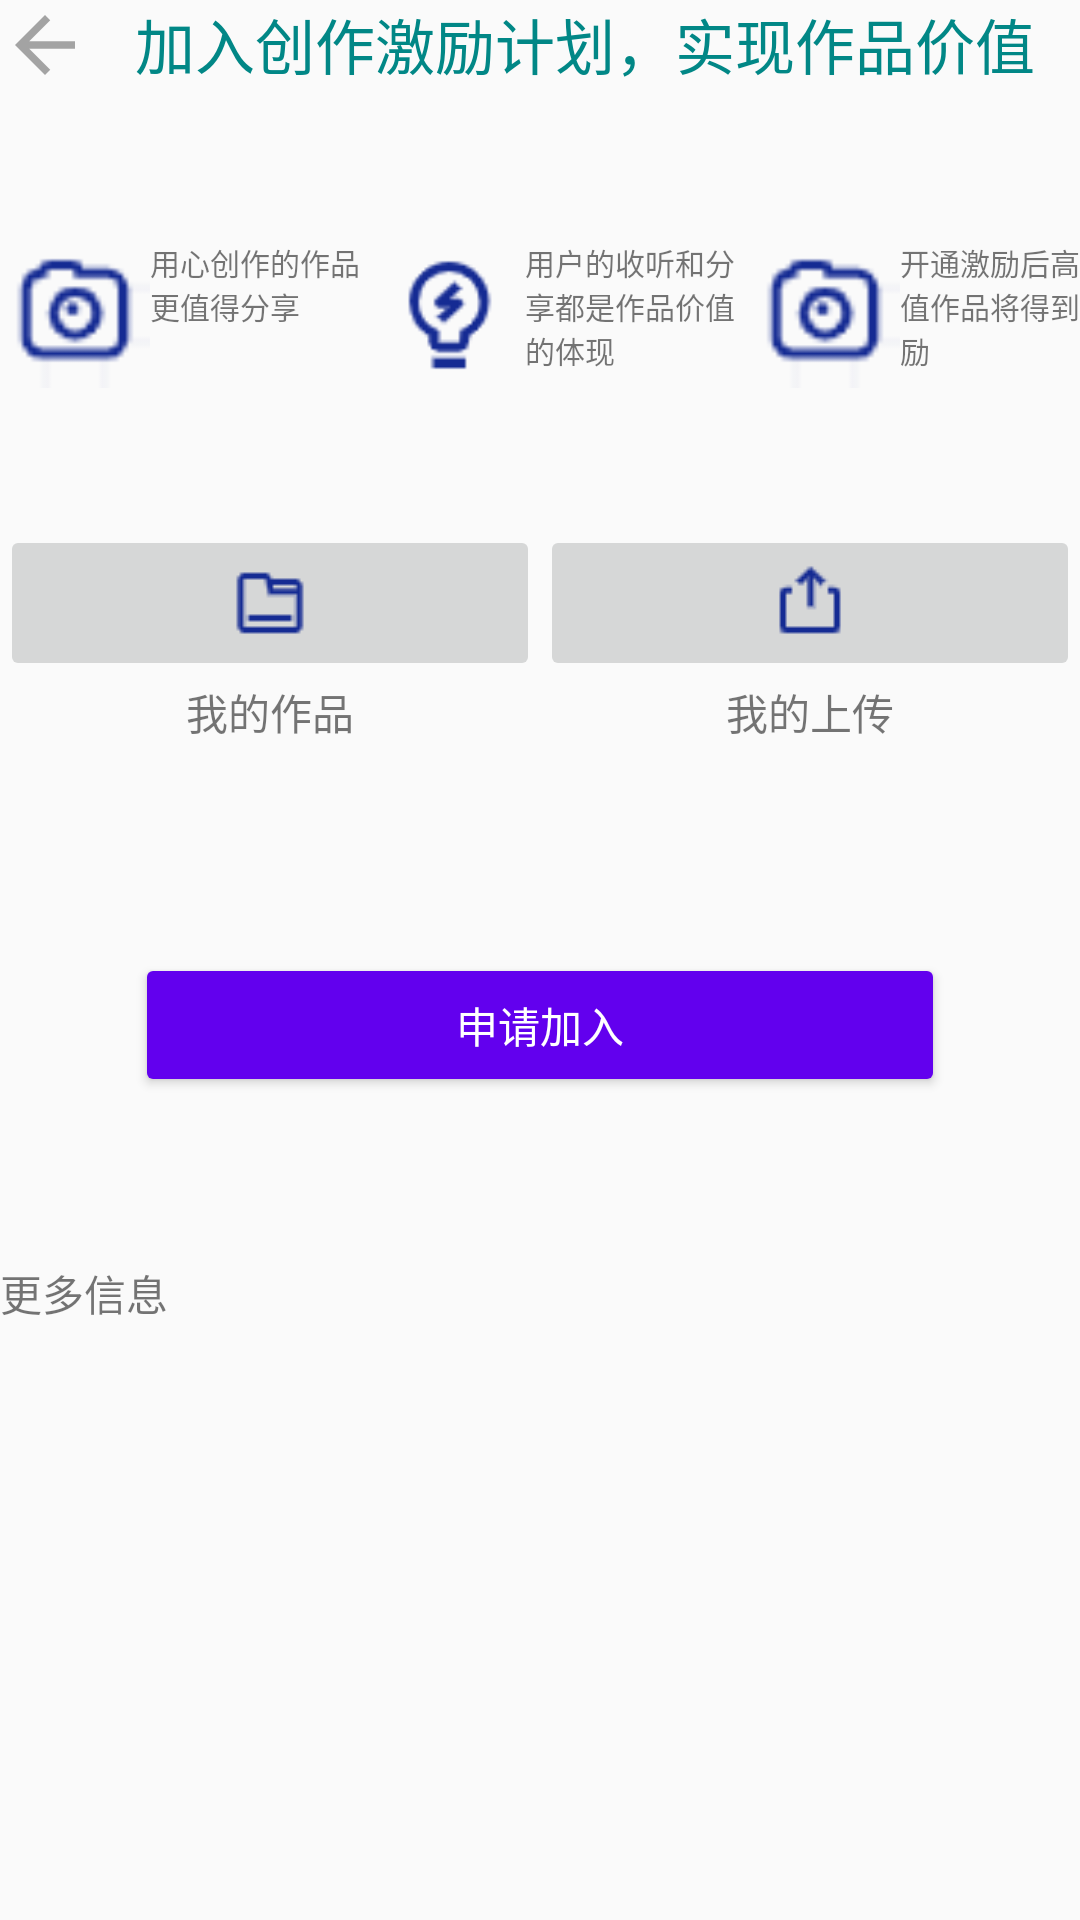

Icons on this 1080x1920 Android screen, each with the point to tap as (x,y):
camera: (75,310), (825,310)
lights: (449,315)
